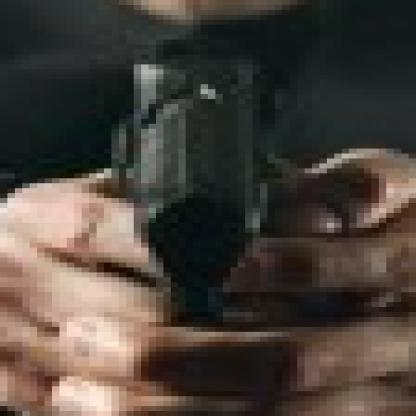gun: (89, 25, 297, 362)
